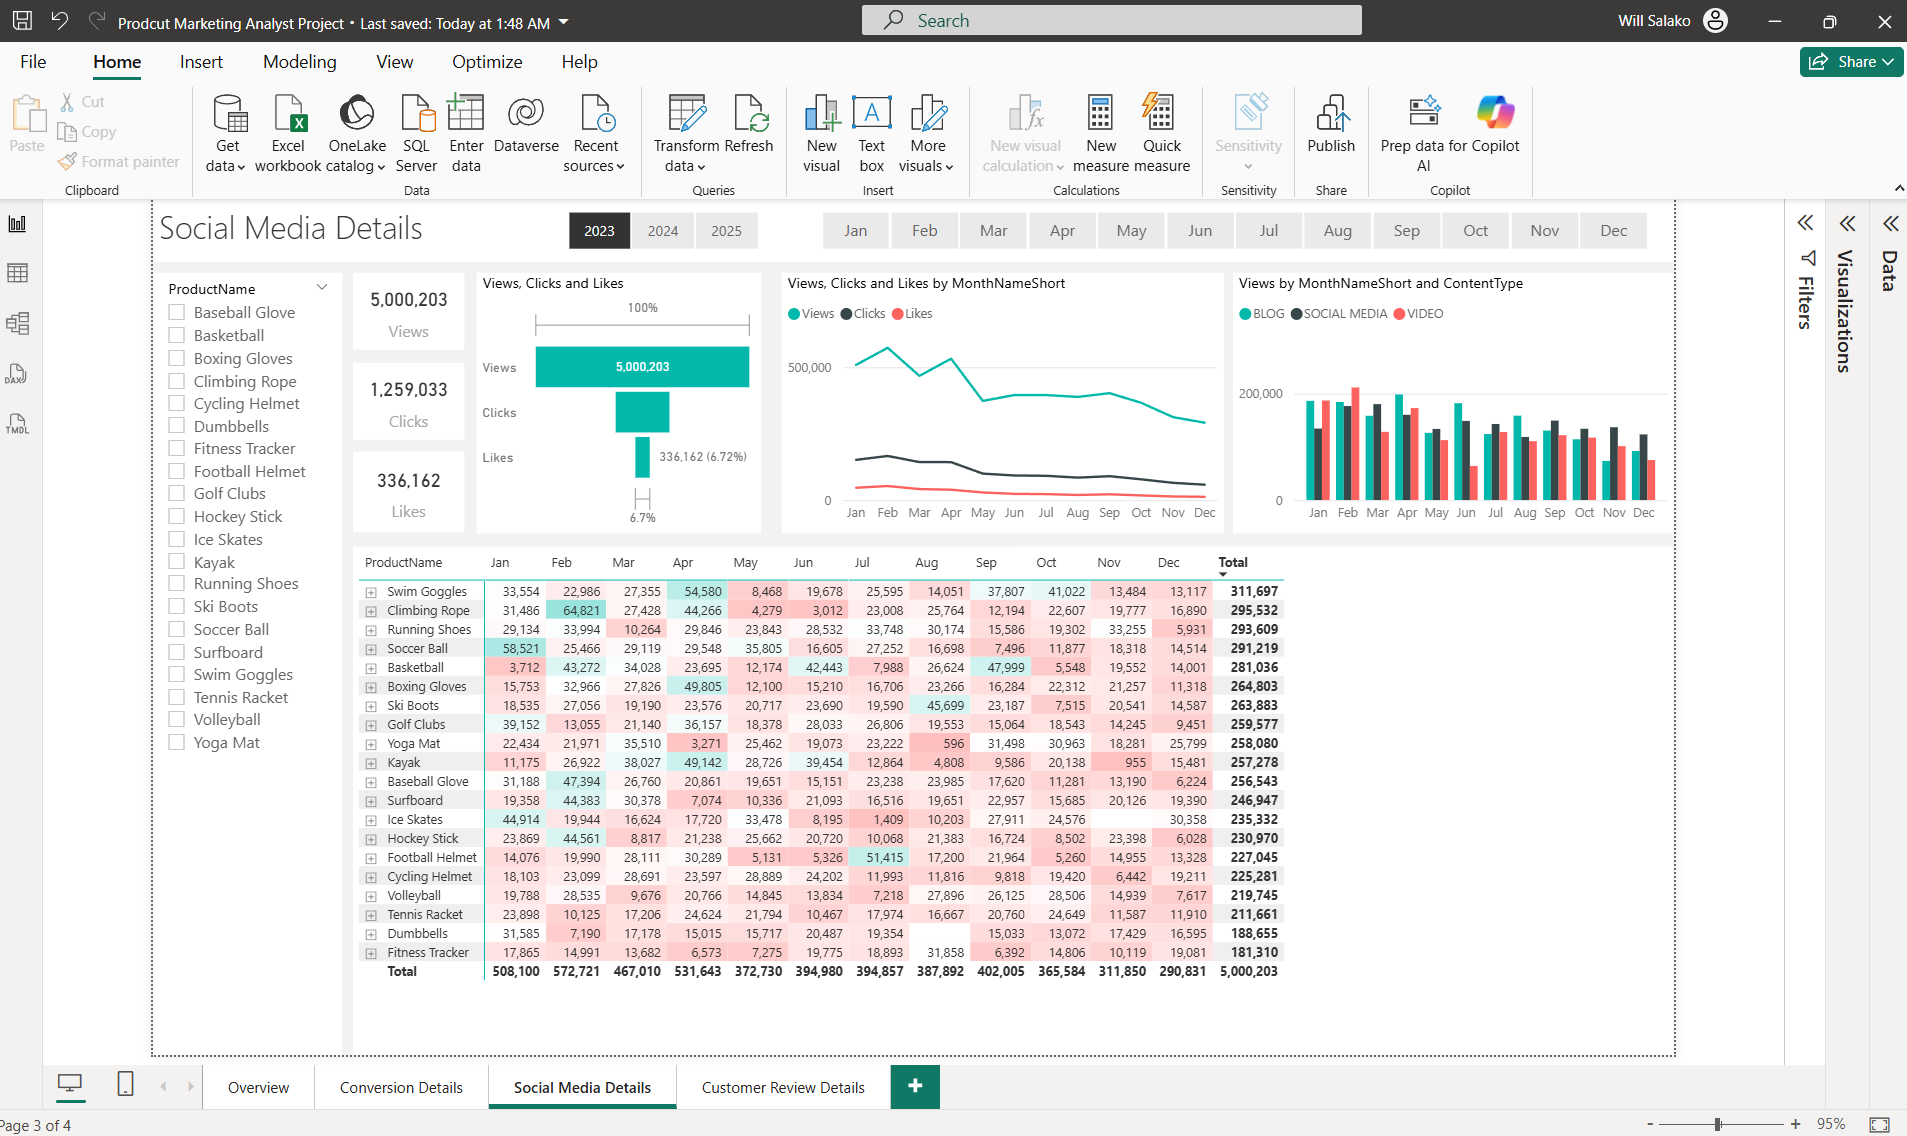

Layout of this report page (visuals, bound fields, positions):
{"tool":"powerbi","page":{"name":"Social Media Details","canvas":[1280,720],"ordinal":2},"visuals":[{"type":"textbox","box":[0,0,1280,52.6],"z":0},{"type":"slicer","fields":{"Values":["dim_products.ProductName"]},"box":[0,61.6,159.5,658.5],"z":1000},{"type":"lineChart","fields":{"Y":["_Calculations.Views","_Calculations.Clicks","_Calculations.Likes"],"Category":["Calendar.MonthNameShort"]},"box":[528.5,61.9,371.6,218.8],"z":2000},{"type":"funnel","fields":{"Y":["_Calculations.Views","_Calculations.Clicks","_Calculations.Likes"]},"box":[272.5,61.9,239.5,218.8],"z":3000},{"type":"card","fields":{"Values":["_Calculations.Views"]},"box":[168.3,61.9,93.9,65],"z":4000},{"type":"card","fields":{"Values":["_Calculations.Clicks"]},"box":[168.3,137.3,93.9,65],"z":5000},{"type":"card","fields":{"Values":["_Calculations.Likes"]},"box":[168.3,212.6,93.9,68.1],"z":6000},{"type":"slicer","fields":{"Values":["Calendar.MonthNameShort"]},"box":[536.8,4.1,743.2,44.4],"z":7000},{"type":"slicer","fields":{"Values":["Calendar.Year"]},"box":[324.1,4.1,208.5,44.4],"z":8000},{"type":"pivotTable","fields":{"Rows":["dim_products.ProductName","fact_engagement.ContentType"],"Values":["_Calculations.Views"],"Columns":["Calendar.MonthNameShort"]},"box":[168.3,292.1,1110.7,428.4],"z":9000},{"type":"clusteredColumnChart","fields":{"Category":["Calendar.MonthNameShort"],"Series":["fact_engagement.ContentType"],"Y":["_Calculations.Views"]},"box":[908.4,61.9,370.6,218.8],"z":10000}]}

Visuals, with their boxes on the page's 1280x720 design canvas (x1, y1, x2, y2). These are canvas units, not pixel positions in the 1907x1136 screenshot, which may show the page scaled, cropped or inside an application window:
textbox: Rect(0, 0, 1280, 53)
slicer - dim_products.ProductName: Rect(0, 62, 160, 720)
lineChart - _Calculations.Views x _Calculations.Clicks: Rect(528, 62, 900, 281)
funnel - _Calculations.Views x _Calculations.Clicks: Rect(272, 62, 512, 281)
card - _Calculations.Views: Rect(168, 62, 262, 127)
card - _Calculations.Clicks: Rect(168, 137, 262, 202)
card - _Calculations.Likes: Rect(168, 213, 262, 281)
slicer - Calendar.MonthNameShort: Rect(537, 4, 1280, 48)
slicer - Calendar.Year: Rect(324, 4, 533, 48)
pivotTable - dim_products.ProductName x fact_engagement.ContentType: Rect(168, 292, 1279, 720)
clusteredColumnChart - Calendar.MonthNameShort x fact_engagement.ContentType: Rect(908, 62, 1279, 281)
